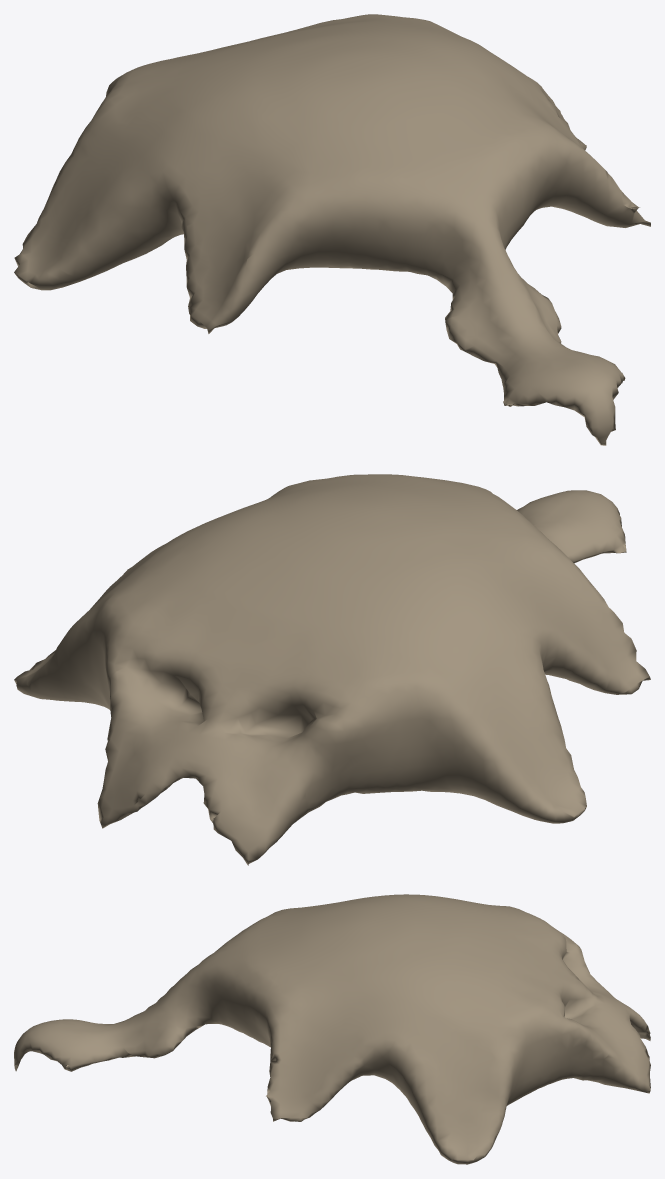
Rendered from mycothrall.glb.
The picture shows the model from 3 angles, top to bottom: view 1: azimuth 30°, elevation 25°; view 2: azimuth 150°, elevation 25°; view 3: azimuth 270°, elevation 25°; orthographic projection. The views are drawn at different scales.
Visible parts, largest first — view 1: mycothrall; view 2: mycothrall; view 3: mycothrall.
Boxes of the visible parts, bbox=[...] form: mycothrall: bbox=[14, 14, 650, 445]; mycothrall: bbox=[14, 474, 650, 865]; mycothrall: bbox=[14, 894, 650, 1164].
Size of the model in its own units: 1.43 by 0.4871 by 1.9.
